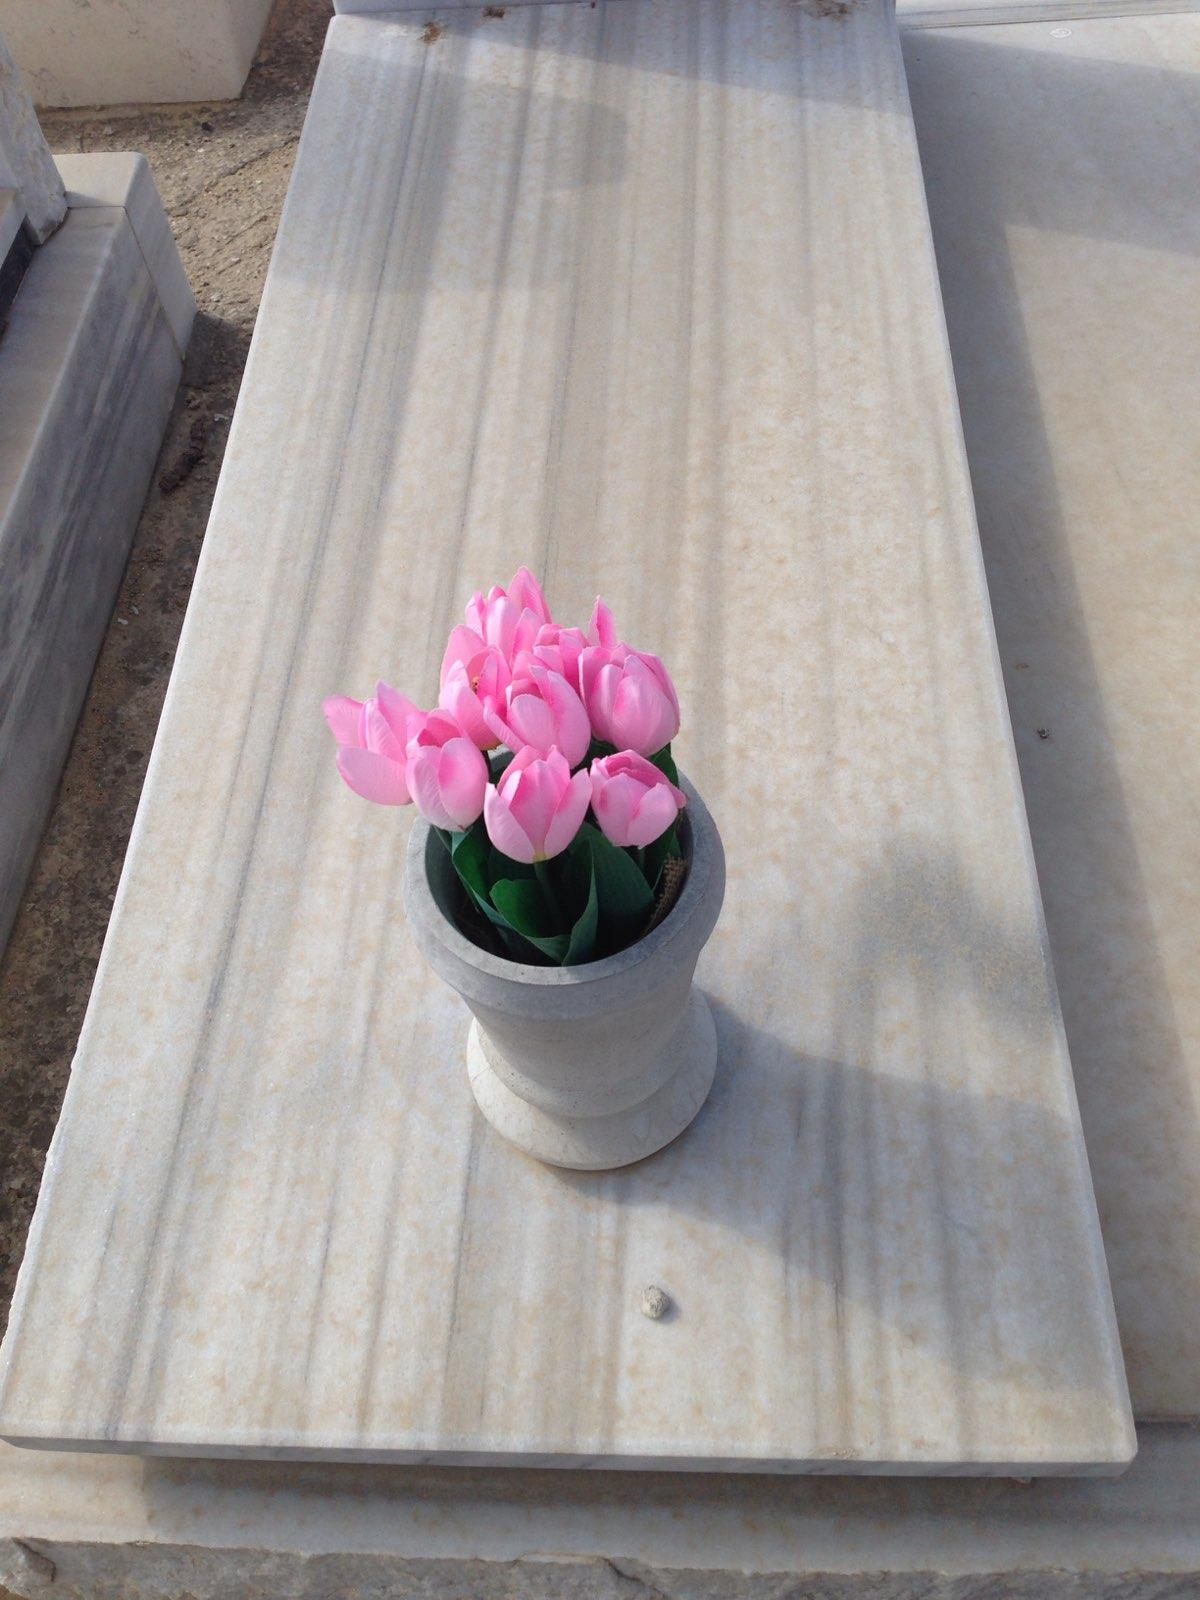vault: (5, 0, 1129, 1600)
